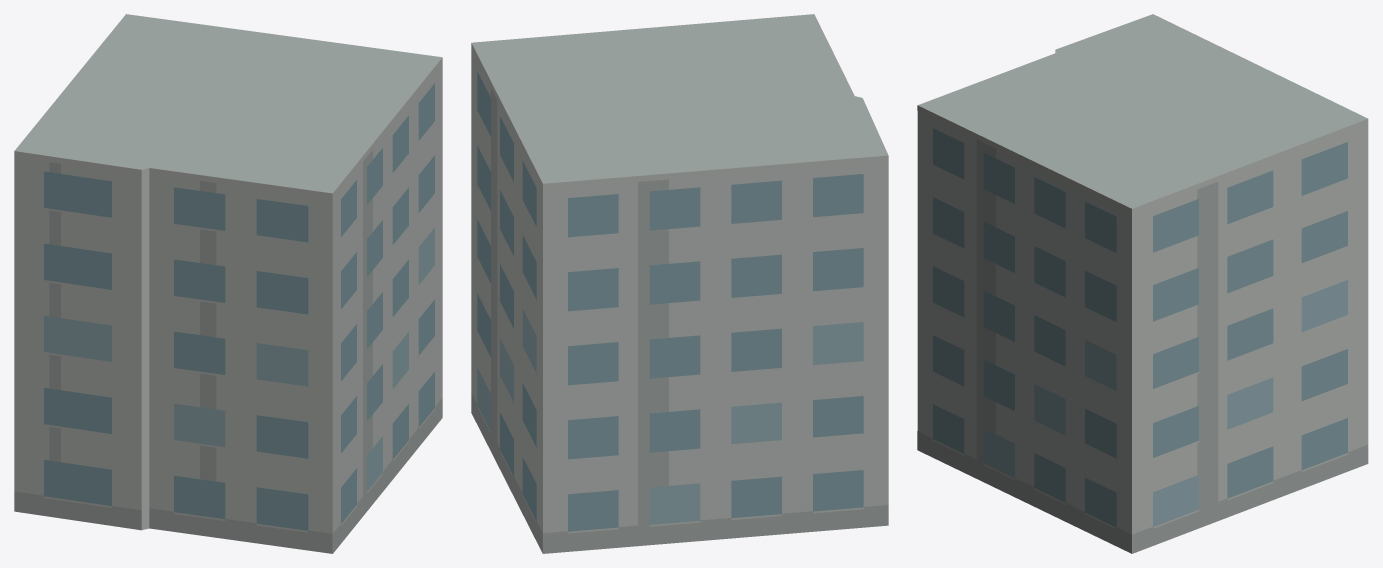
The model's file is survey-upis-32973411.glb.
3 renders of one model, left to right at view 1: azimuth 30°, elevation 25°; view 2: azimuth 150°, elevation 25°; view 3: azimuth 270°, elevation 25°, orthographic. The views are drawn at different scales.
Parts seen in each view (by area): view 1: survey-upis-32973411.tmp; view 2: survey-upis-32973411.tmp; view 3: survey-upis-32973411.tmp.
Part boxes in pixels (box(x1,y1,x2,y2)): survey-upis-32973411.tmp: box(14, 14, 442, 553); survey-upis-32973411.tmp: box(471, 14, 888, 553); survey-upis-32973411.tmp: box(917, 14, 1368, 553).
Bounding box in the file's own units: 18.3 × 15.1 × 17.89.
